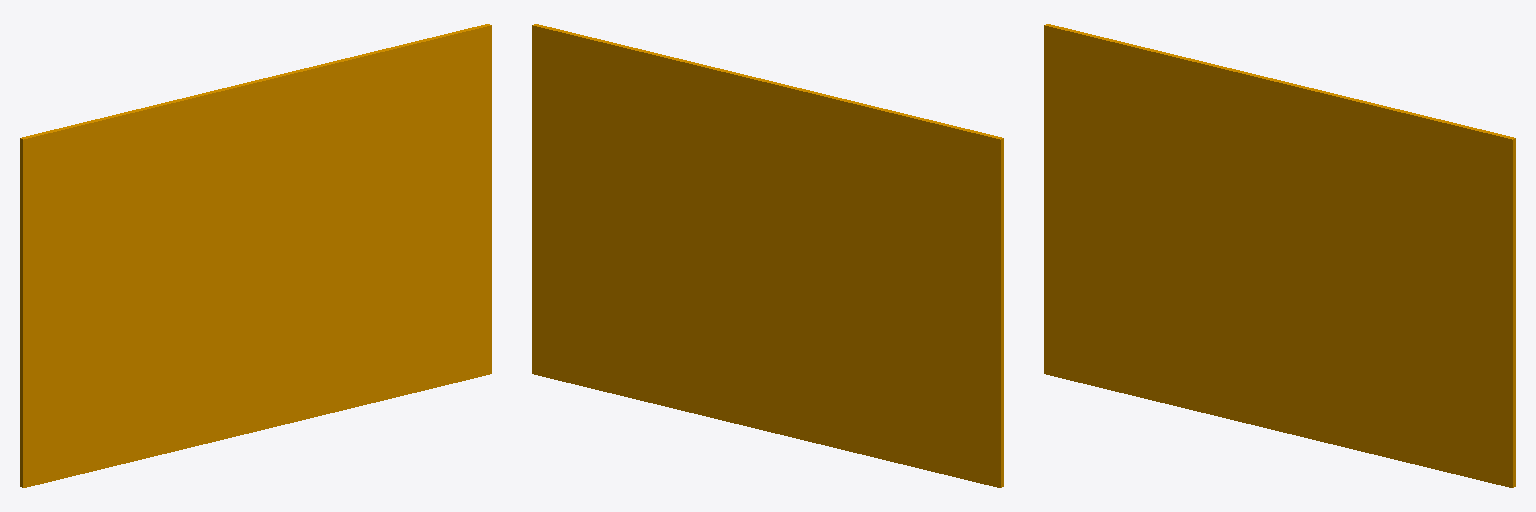
URDF robot description (spl-22-field.urdf):
<?xml version="1.0" ?>
<robot name="spl-22-field.urdf">
  <link name="baseLink">
    <visual>
      <origin rpy="0 0 0" xyz="0 0 0"/>
      <geometry>
        <mesh filename="rc-spl-22-base-field.obj" scale="1 1 1"/>
      </geometry>
      <material name="rc-spl-22-base-field">
        <texture filename="rc-spl-22-base-field.mtl"/>
      </material>
    </visual>
    <collision>
      <origin rpy="0 0 0" xyz="0 0 0"/>
      <geometry>
	 	<mesh filename="rc-spl-22-base-field.obj" scale="1 1 1"/>
      </geometry>
    </collision>
  </link>
</robot>

--- What the picture shows (computed from the rendered views, not written in the file) ---
3 views of the same robot in one strip: view 1: azimuth 30°, elevation 25°; view 2: azimuth 150°, elevation 25°; view 3: azimuth 330°, elevation 25° (orthographic).
Model spl-22-field.urdf with 1 links and 0 joints (none), rooted at baseLink, posed all joints at 0.
Links seen in each view (by area): view 1: baseLink; view 2: baseLink; view 3: baseLink.
Boxes of the visible links, x1,y1,x2,y2 form: baseLink: [20, 24, 491, 487]; baseLink: [532, 24, 1003, 487]; baseLink: [1044, 24, 1515, 487].
Size in the robot's own frame: 10.4 by 0.1 by 7.4 metres.
Meshes: 1 distinct files referenced, 1 mesh visuals loaded (1 OBJ).